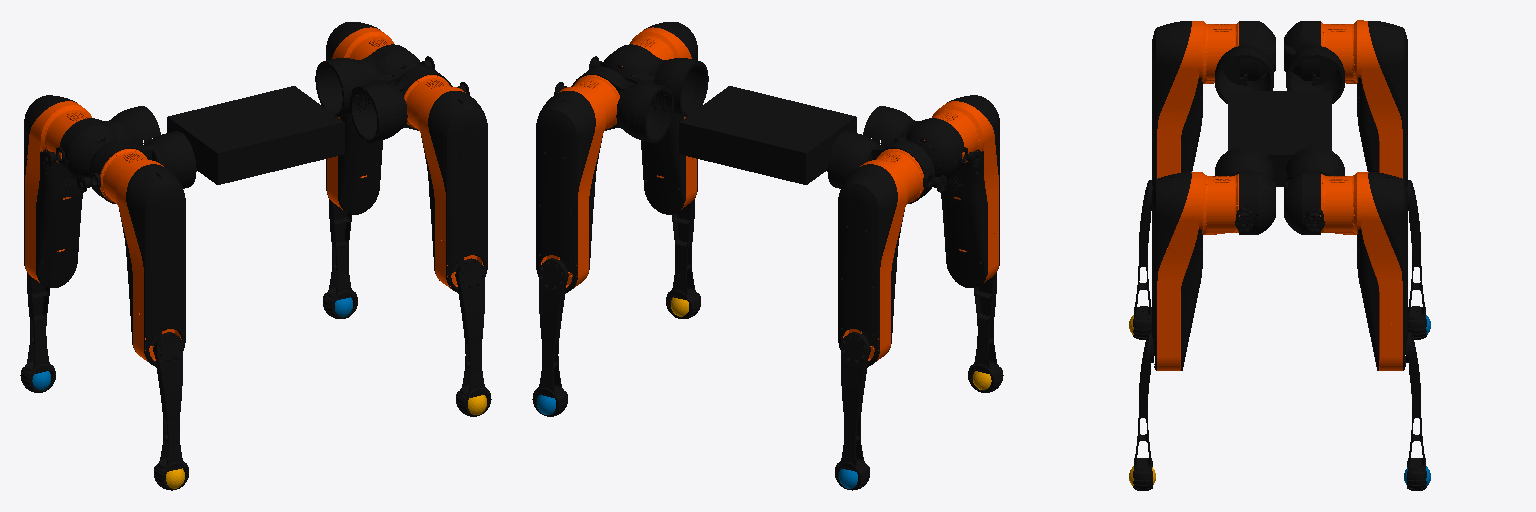
URDF robot description (kyon):
<?xml version="1.0" ?>
<!-- =================================================================================== -->
<!-- |    This document was autogenerated by xacro from kyon_urdf/urdf/kyon.urdf.xacro | -->
<!-- |    EDITING THIS FILE BY HAND IS NOT RECOMMENDED                                 | -->
<!-- =================================================================================== -->
<robot name="kyon">
  <!-- scaling factor for available peack torque link side, from 0 to 1 -->
  <material name="black">
    <color rgba="0.4 0.4 0.4 1"/>
  </material>
  <material name="dark_grey">
    <color rgba="0.1 0.1 0.1 1"/>
  </material>
  <material name="light_grey">
    <color rgba="0.2 0.2 0.2 1"/>
  </material>
  <material name="kyon_orange">
    <color rgba="0.925 0.325 0.0 1"/>
  </material>
  <!-- Compound properties (i.e. based on the props parsed from the yaml) -->
  <link name="base_link"/>
  <link name="pelvis">
    <inertial>
      <origin xyz="0.056500758 0.002091838 0.086799843"/>
      <mass value="19.962822"/>
      <inertia ixx="0.24817282999999998" ixy="-0.0041644587" ixz="-0.060913554999999994" iyy="1.2563811999999999" iyz="0.00024917702" izz="1.2495441"/>
    </inertial>
    <visual>
      <origin rpy="0.0 0.0 0.0" xyz="0.0 0 0.0"/>
      <geometry>
        <mesh filename="package://example-robot-data/robots/kyon_description/meshes/visual/mesh_pelvis.stl" scale="0.001 0.001 0.001"/>
      </geometry>
      <material name="dark_grey"/>
    </visual>
    <collision>
      <!-- This remains the sole mesh in primitive-collision mode. Its
		     100-triangle convex hull converts reliably, while an enclosing box
		     creates false pelvis/shoulder collisions in the nominal posture. -->
      <origin rpy="0 0 0" xyz="0 0 0"/>
      <geometry>
        <mesh filename="package://example-robot-data/robots/kyon_description/meshes/collision_simplified/mesh_pelvis.stl" scale="0.001 0.001 0.001"/>
      </geometry>
    </collision>
  </link>
  <link name="battery">
    <inertial>
      <mass value="9.8"/>
      <inertia ixx="0.04647935016666667" ixy="0.0" ixz="0.0" iyy="0.09353241683333333" iyz="0.0" izz="0.12974056666666667"/>
    </inertial>
    <visual>
      <geometry>
        <box size="0.329 0.225 0.0793"/>
      </geometry>
      <material name="dark_grey"/>
    </visual>
  </link>
  <joint name="battery_joint" type="fixed">
    <origin xyz="0.0 0.0 -0.02725"/>
    <parent link="pelvis"/>
    <child link="battery"/>
  </joint>
  <joint name="base_joint" type="fixed">
    <parent link="pelvis"/>
    <child link="base_link"/>
    <origin rpy="0 0 0" xyz="0 0 0"/>
  </joint>
  <link name="imu_link"/>
  <joint name="imu_joint" type="fixed">
    <origin rpy="3.14159265359 0 0" xyz="-0.256190 0 0.103"/>
    <parent link="pelvis"/>
    <child link="imu_link"/>
  </joint>
  <!-- CAMERA BASE FRAMES -->
  <link name="zed_front_up_mount_link"/>
  <joint name="zed_front_up_mount_joint" type="fixed">
    <parent link="pelvis"/>
    <child link="zed_front_up_mount_link"/>
    <origin rpy="0 -0.1745327 0" xyz="0.526174 0 0.0674608"/>
  </joint>
  <link name="zed_front_down_mount_link"/>
  <joint name="zed_front_down_mount_joint" type="fixed">
    <parent link="pelvis"/>
    <child link="zed_front_down_mount_link"/>
    <origin rpy="0 0.9250251 0" xyz="0.509601 0 0.00343992"/>
  </joint>
  <link name="left_camera_mount_link"/>
  <joint name="left_camera_mount_joint" type="fixed">
    <parent link="pelvis"/>
    <child link="left_camera_mount_link"/>
    <origin rpy="0 0.3490656 1.5707963" xyz="0 0.150100 0.109486"/>
  </joint>
  <link name="right_camera_mount_link"/>
  <joint name="right_camera_mount_joint" type="fixed">
    <parent link="pelvis"/>
    <child link="right_camera_mount_link"/>
    <origin rpy="0 0.3490656 -1.5707963" xyz="0 -0.150100 0.109486"/>
  </joint>
  <!-- Velodyne -->
  <link name="hesai_lidar"/>
  <joint name="hesai_lidar_joints" type="fixed">
    <origin rpy="0 0 0.5220063" xyz="0.43 0 0.118"/>
    <parent link="pelvis"/>
    <child link="hesai_lidar"/>
  </joint>
  <!-- /macro legs -->
  <!-- links -->
  <link name="hip_roll_1_link">
    <inertial>
      <origin xyz="-0.00067317742 0.0065349155 -0.11564663"/>
      <mass value="2.5772427"/>
      <inertia ixx="0.014198247999999998" ixy="5.199100799999999e-06" ixz="5.3090191e-05" iyy="0.014484612" iyz="0.001454582" izz="0.004551220599999999"/>
    </inertial>
    <visual>
      <origin rpy="0.0 0.0 0.0" xyz="0.0 0.0 0.0"/>
      <geometry>
        <!-- <cylinder radius="${cylinder_radius}" length="${cylinder_length}"/> -->
        <mesh filename="package://example-robot-data/robots/kyon_description/meshes/visual/mesh_hip-roll_reduced.stl" scale="0.001 -0.001 0.001"/>
      </geometry>
      <material name="dark_grey"/>
    </visual>
    <collision>
      <origin rpy="0 0 0" xyz="0 0 0"/>
      <geometry>
        <mesh filename="package://example-robot-data/robots/kyon_description/meshes/collision_simplified/mesh_hip-roll.stl" scale="0.001 -0.001 0.001"/>
      </geometry>
    </collision>
  </link>
  <link name="hip_pitch_1_link">
    <inertial>
      <origin xyz="6.9653887e-05 -0.077666126 0.14689295000000002"/>
      <mass value="6.4366103"/>
      <inertia ixx="0.12144025" ixy="-0.0006467757299999999" ixz="-5.7668584e-05" iyy="0.03368201999999999" iyz="0.027586780999999998" izz="0.10048465"/>
    </inertial>
    <visual>
      <origin rpy="0.0 0.0 0.0" xyz="0.0 0.0 0.0"/>
      <geometry>
        <mesh filename="package://example-robot-data/robots/kyon_description/meshes/visual/mesh_hip-pitch_reduced.stl" scale="0.001 0.001 0.001"/>
      </geometry>
      <material name="kyon_orange"/>
    </visual>
    <visual>
      <origin rpy="0.0 0.0 0.0" xyz="0.0 0.0 0.0"/>
      <geometry>
        <mesh filename="package://example-robot-data/robots/kyon_description/meshes/visual/mesh_hip-pitch_cover_reduced.stl" scale="0.001 0.001 0.001"/>
      </geometry>
      <material name="dark_grey"/>
    </visual>
    <collision>
      <origin rpy="0 0 0" xyz="0 0 0"/>
      <geometry>
        <mesh filename="package://example-robot-data/robots/kyon_description/meshes/collision_simplified/mesh_hip-pitch.stl" scale="0.001 0.001 0.001"/>
      </geometry>
      <material name="kyon_orange"/>
    </collision>
  </link>
  <!-- joints -->
  <joint name="hip_roll_1" type="revolute">
    <parent link="pelvis"/>
    <child link="hip_roll_1_link"/>
    <origin rpy="0.0 1.57079632679 0.0" xyz="0.391 0.0775 0.0"/>
    <axis xyz="0 0 -1"/>
    <limit effort="185" lower="-0.65" upper="0.65" velocity="7.6"/>
  </joint>
  <joint name="hip_pitch_1" type="revolute">
    <parent link="hip_roll_1_link"/>
    <child link="hip_pitch_1_link"/>
    <origin rpy="0.0 1.57079632679 1.57079632679" xyz="0.0 -0.04746 0.0"/>
    <axis xyz="0 0 -1"/>
    <limit effort="185" lower="-2.4056" upper="2.4056" velocity="7.6"/>
  </joint>
  <link name="knee_pitch_1_link">
    <inertial>
      <origin xyz="5.1193011000000004e-06 -0.10291594999999999 -0.0012895495"/>
      <mass value="0.70900216"/>
      <inertia ixx="0.012517512" ixy="5.4385779e-07" ixz="-1.4538899e-07" iyy="0.00080474409" iyz="0.001744629" izz="0.01230702"/>
    </inertial>
    <visual>
      <origin rpy="0.0 0.0 0.0" xyz="0.0 0.0 0.0"/>
      <geometry>
        <mesh filename="package://example-robot-data/robots/kyon_description/meshes/visual/mesh_foot-leg_reduced.stl" scale="-0.001 0.001 0.001"/>
      </geometry>
      <material name="dark_grey"/>
    </visual>
    <collision>
      <origin rpy="0 0 0" xyz="0 0 0"/>
      <geometry>
        <mesh filename="package://example-robot-data/robots/kyon_description/meshes/collision_simplified/mesh_foot-leg.stl" scale="-0.001 0.001 0.001"/>
      </geometry>
    </collision>
  </link>
  <joint name="knee_pitch_1" type="revolute">
    <parent link="hip_pitch_1_link"/>
    <child link="knee_pitch_1_link"/>
    <origin rpy="0.0 0.0 0.0" xyz="0.0 -0.34600000000000003 0.24606"/>
    <axis xyz="0 0 -1"/>
    <limit effort="185" lower="-3.2" upper="3.2" velocity="7.6"/>
  </joint>
  <link name="contact_1">
    <visual>
      <origin rpy="0 0 0" xyz="0 0 0"/>
      <geometry>
        <sphere radius="0.03"/>
      </geometry>
      <material name="white"/>
    </visual>
    <collision name="contact_1">
      <origin rpy="0 0 0" xyz="0 0 0"/>
      <geometry>
        <sphere radius="0.03"/>
      </geometry>
    </collision>
  </link>
  <joint name="contact_1_joint" type="fixed">
    <parent link="knee_pitch_1_link"/>
    <child link="contact_1"/>
    <origin rpy="-1.57 0 0.785" xyz="0.0 -0.312 0.024"/>
  </joint>
  <!-- <xacro:if value="${ADD_WHEELS}"> -->
  <!-- <xacro:wheel_leg leg_num="${leg_num}" parent="hip_pitch_${leg_num}_link" origin_x="${origin_x}" origin_y="${origin_y}" mirror="${mirror}"/> -->
  <!-- </xacro:if> -->
  <!-- links -->
  <link name="hip_roll_2_link">
    <inertial>
      <origin xyz="-0.00067317742 0.0065349155 -0.11564663"/>
      <mass value="2.5772427"/>
      <inertia ixx="0.014198247999999998" ixy="-5.199100799999999e-06" ixz="5.3090191e-05" iyy="0.014484612" iyz="-0.001454582" izz="0.004551220599999999"/>
    </inertial>
    <visual>
      <origin rpy="0.0 0.0 0.0" xyz="0.0 0.0 0.0"/>
      <geometry>
        <!-- <cylinder radius="${cylinder_radius}" length="${cylinder_length}"/> -->
        <mesh filename="package://example-robot-data/robots/kyon_description/meshes/visual/mesh_hip-roll_reduced.stl" scale="0.001 0.001 0.001"/>
      </geometry>
      <material name="dark_grey"/>
    </visual>
    <collision>
      <origin rpy="0 0 0" xyz="0 0 0"/>
      <geometry>
        <mesh filename="package://example-robot-data/robots/kyon_description/meshes/collision_simplified/mesh_hip-roll.stl" scale="0.001 0.001 0.001"/>
      </geometry>
    </collision>
  </link>
  <link name="hip_pitch_2_link">
    <inertial>
      <origin xyz="6.9653887e-05 -0.077666126 0.14689295000000002"/>
      <mass value="6.4366103"/>
      <inertia ixx="0.12144025" ixy="-0.0006467757299999999" ixz="-5.7668584e-05" iyy="0.03368201999999999" iyz="0.027586780999999998" izz="0.10048465"/>
    </inertial>
    <visual>
      <origin rpy="0.0 0.0 0.0" xyz="0.0 0.0 0.0"/>
      <geometry>
        <mesh filename="package://example-robot-data/robots/kyon_description/meshes/visual/mesh_hip-pitch_reduced.stl" scale="0.001 0.001 0.001"/>
      </geometry>
      <material name="kyon_orange"/>
    </visual>
    <visual>
      <origin rpy="0.0 0.0 0.0" xyz="0.0 0.0 0.0"/>
      <geometry>
        <mesh filename="package://example-robot-data/robots/kyon_description/meshes/visual/mesh_hip-pitch_cover_reduced.stl" scale="0.001 0.001 0.001"/>
      </geometry>
      <material name="dark_grey"/>
    </visual>
    <collision>
      <origin rpy="0 0 0" xyz="0 0 0"/>
      <geometry>
        <mesh filename="package://example-robot-data/robots/kyon_description/meshes/collision_simplified/mesh_hip-pitch.stl" scale="0.001 0.001 0.001"/>
      </geometry>
      <material name="kyon_orange"/>
    </collision>
  </link>
  <!-- joints -->
  <joint name="hip_roll_2" type="revolute">
    <parent link="pelvis"/>
    <child link="hip_roll_2_link"/>
    <origin rpy="0.0 1.57079632679 0.0" xyz="0.391 -0.0775 0.0"/>
    <axis xyz="0 0 -1"/>
    <limit effort="185" lower="-0.65" upper="0.65" velocity="7.6"/>
  </joint>
  <joint name="hip_pitch_2" type="revolute">
    <parent link="hip_roll_2_link"/>
    <child link="hip_pitch_2_link"/>
    <origin rpy="0.0 -1.57079632679 1.57079632679" xyz="0.0 0.04746 0.0"/>
    <axis xyz="0 0 -1"/>
    <limit effort="185" lower="-2.3266" upper="2.3266" velocity="7.6"/>
  </joint>
  <link name="knee_pitch_2_link">
    <inertial>
      <origin xyz="5.1193011000000004e-06 -0.10291594999999999 -0.0012895495"/>
      <mass value="0.70900216"/>
      <inertia ixx="0.012517512" ixy="-5.4385779e-07" ixz="1.4538899e-07" iyy="0.00080474409" iyz="0.001744629" izz="0.01230702"/>
    </inertial>
    <visual>
      <origin rpy="0.0 0.0 0.0" xyz="0.0 0.0 0.0"/>
      <geometry>
        <mesh filename="package://example-robot-data/robots/kyon_description/meshes/visual/mesh_foot-leg_reduced.stl" scale="0.001 0.001 0.001"/>
      </geometry>
      <material name="dark_grey"/>
    </visual>
    <collision>
      <origin rpy="0 0 0" xyz="0 0 0"/>
      <geometry>
        <mesh filename="package://example-robot-data/robots/kyon_description/meshes/collision_simplified/mesh_foot-leg.stl" scale="0.001 0.001 0.001"/>
      </geometry>
    </collision>
  </link>
  <joint name="knee_pitch_2" type="revolute">
    <parent link="hip_pitch_2_link"/>
    <child link="knee_pitch_2_link"/>
    <origin rpy="0.0 0.0 0.0" xyz="0.0 -0.34600000000000003 0.24606"/>
    <axis xyz="0 0 -1"/>
    <limit effort="185" lower="-3.2" upper="3.2" velocity="7.6"/>
  </joint>
  <link name="contact_2">
    <visual>
      <origin rpy="0 0 0" xyz="0 0 0"/>
      <geometry>
        <sphere radius="0.03"/>
      </geometry>
      <material name="white"/>
    </visual>
    <collision name="contact_2">
      <origin rpy="0 0 0" xyz="0 0 0"/>
      <geometry>
        <sphere radius="0.03"/>
      </geometry>
    </collision>
  </link>
  <joint name="contact_2_joint" type="fixed">
    <parent link="knee_pitch_2_link"/>
    <child link="contact_2"/>
    <origin rpy="1.57 0 2.356" xyz="-0.0 -0.312 0.024"/>
  </joint>
  <!-- <xacro:if value="${ADD_WHEELS}"> -->
  <!-- <xacro:wheel_leg leg_num="${leg_num}" parent="hip_pitch_${leg_num}_link" origin_x="${origin_x}" origin_y="${origin_y}" mirror="${mirror}"/> -->
  <!-- </xacro:if> -->
  <!-- links -->
  <link name="hip_roll_3_link">
    <inertial>
      <origin xyz="-0.00067317742 0.0065349155 -0.11564663"/>
      <mass value="2.5772427"/>
      <inertia ixx="0.014198247999999998" ixy="5.199100799999999e-06" ixz="5.3090191e-05" iyy="0.014484612" iyz="0.001454582" izz="0.004551220599999999"/>
    </inertial>
    <visual>
      <origin rpy="0.0 0.0 0.0" xyz="0.0 0.0 0.0"/>
      <geometry>
        <!-- <cylinder radius="${cylinder_radius}" length="${cylinder_length}"/> -->
        <mesh filename="package://example-robot-data/robots/kyon_description/meshes/visual/mesh_hip-roll_reduced.stl" scale="0.001 -0.001 0.001"/>
      </geometry>
      <material name="dark_grey"/>
    </visual>
    <collision>
      <origin rpy="0 0 0" xyz="0 0 0"/>
      <geometry>
        <mesh filename="package://example-robot-data/robots/kyon_description/meshes/collision_simplified/mesh_hip-roll.stl" scale="0.001 -0.001 0.001"/>
      </geometry>
    </collision>
  </link>
  <link name="hip_pitch_3_link">
    <inertial>
      <origin xyz="6.9653887e-05 -0.077666126 0.14689295000000002"/>
      <mass value="6.4366103"/>
      <inertia ixx="0.12144025" ixy="-0.0006467757299999999" ixz="-5.7668584e-05" iyy="0.03368201999999999" iyz="0.027586780999999998" izz="0.10048465"/>
    </inertial>
    <visual>
      <origin rpy="0.0 0.0 0.0" xyz="0.0 0.0 0.0"/>
      <geometry>
        <mesh filename="package://example-robot-data/robots/kyon_description/meshes/visual/mesh_hip-pitch_reduced.stl" scale="0.001 0.001 0.001"/>
      </geometry>
      <material name="kyon_orange"/>
    </visual>
    <visual>
      <origin rpy="0.0 0.0 0.0" xyz="0.0 0.0 0.0"/>
      <geometry>
        <mesh filename="package://example-robot-data/robots/kyon_description/meshes/visual/mesh_hip-pitch_cover_reduced.stl" scale="0.001 0.001 0.001"/>
      </geometry>
      <material name="dark_grey"/>
    </visual>
    <collision>
      <origin rpy="0 0 0" xyz="0 0 0"/>
      <geometry>
        <mesh filename="package://example-robot-data/robots/kyon_description/meshes/collision_simplified/mesh_hip-pitch.stl" scale="0.001 0.001 0.001"/>
      </geometry>
      <material name="kyon_orange"/>
    </collision>
  </link>
  <!-- joints -->
  <joint name="hip_roll_3" type="revolute">
    <parent link="pelvis"/>
    <child link="hip_roll_3_link"/>
    <origin rpy="0.0 -1.57079632679 0.0" xyz="-0.391 0.0775 0.0"/>
    <axis xyz="0 0 -1"/>
    <limit effort="185" lower="-0.65" upper="0.65" velocity="7.6"/>
  </joint>
  <joint name="hip_pitch_3" type="revolute">
    <parent link="hip_roll_3_link"/>
    <child link="hip_pitch_3_link"/>
    <origin rpy="0.0 -1.57079632679 -1.57079632679" xyz="0.0 -0.04746 0.0"/>
    <axis xyz="0 0 -1"/>
    <limit effort="185" lower="-2.4696" upper="2.4696" velocity="7.6"/>
  </joint>
  <link name="knee_pitch_3_link">
    <inertial>
      <origin xyz="5.1193011000000004e-06 -0.10291594999999999 -0.0012895495"/>
      <mass value="0.70900216"/>
      <inertia ixx="0.012517512" ixy="5.4385779e-07" ixz="-1.4538899e-07" iyy="0.00080474409" iyz="0.001744629" izz="0.01230702"/>
    </inertial>
    <visual>
      <origin rpy="0.0 0.0 0.0" xyz="0.0 0.0 0.0"/>
      <geometry>
        <mesh filename="package://example-robot-data/robots/kyon_description/meshes/visual/mesh_foot-leg_reduced.stl" scale="-0.001 0.001 0.001"/>
      </geometry>
      <material name="dark_grey"/>
    </visual>
    <collision>
      <origin rpy="0 0 0" xyz="0 0 0"/>
      <geometry>
        <mesh filename="package://example-robot-data/robots/kyon_description/meshes/collision_simplified/mesh_foot-leg.stl" scale="-0.001 0.001 0.001"/>
      </geometry>
    </collision>
  </link>
  <joint name="knee_pitch_3" type="revolute">
    <parent link="hip_pitch_3_link"/>
    <child link="knee_pitch_3_link"/>
    <origin rpy="0.0 0.0 0.0" xyz="0.0 -0.34600000000000003 0.24606"/>
    <axis xyz="0 0 -1"/>
    <limit effort="185" lower="-3.2" upper="3.2" velocity="7.6"/>
  </joint>
  <link name="contact_3">
    <visual>
      <origin rpy="0 0 0" xyz="0 0 0"/>
      <geometry>
        <sphere radius="0.03"/>
      </geometry>
      <material name="white"/>
    </visual>
    <collision name="contact_3">
      <origin rpy="0 0 0" xyz="0 0 0"/>
      <geometry>
        <sphere radius="0.03"/>
      </geometry>
    </collision>
  </link>
  <joint name="contact_3_joint" type="fixed">
    <parent link="knee_pitch_3_link"/>
    <child link="contact_3"/>
    <origin rpy="-1.57 0 0.785" xyz="0.0 -0.312 0.024"/>
  </joint>
  <!-- <xacro:if value="${ADD_WHEELS}"> -->
  <!-- <xacro:wheel_leg leg_num="${leg_num}" parent="hip_pitch_${leg_num}_link" origin_x="${origin_x}" origin_y="${origin_y}" mirror="${mirror}"/> -->
  <!-- </xacro:if> -->
  <!-- links -->
  <link name="hip_roll_4_link">
    <inertial>
      <origin xyz="-0.00067317742 0.0065349155 -0.11564663"/>
      <mass value="2.5772427"/>
      <inertia ixx="0.014198247999999998" ixy="-5.199100799999999e-06" ixz="5.3090191e-05" iyy="0.014484612" iyz="-0.001454582" izz="0.004551220599999999"/>
    </inertial>
    <visual>
      <origin rpy="0.0 0.0 0.0" xyz="0.0 0.0 0.0"/>
      <geometry>
        <!-- <cylinder radius="${cylinder_radius}" length="${cylinder_length}"/> -->
        <mesh filename="package://example-robot-data/robots/kyon_description/meshes/visual/mesh_hip-roll_reduced.stl" scale="0.001 0.001 0.001"/>
      </geometry>
      <material name="dark_grey"/>
    </visual>
    <collision>
      <origin rpy="0 0 0" xyz="0 0 0"/>
      <geometry>
        <mesh filename="package://example-robot-data/robots/kyon_description/meshes/collision_simplified/mesh_hip-roll.stl" scale="0.001 0.001 0.001"/>
      </geometry>
    </collision>
  </link>
  <link name="hip_pitch_4_link">
    <inertial>
      <origin xyz="6.9653887e-05 -0.077666126 0.14689295000000002"/>
      <mass value="6.4366103"/>
      <inertia ixx="0.12144025" ixy="-0.0006467757299999999" ixz="-5.7668584e-05" iyy="0.03368201999999999" iyz="0.027586780999999998" izz="0.10048465"/>
    </inertial>
    <visual>
      <origin rpy="0.0 0.0 0.0" xyz="0.0 0.0 0.0"/>
      <geometry>
        <mesh filename="package://example-robot-data/robots/kyon_description/meshes/visual/mesh_hip-pitch_reduced.stl" scale="0.001 0.001 0.001"/>
      </geometry>
      <material name="kyon_orange"/>
    </visual>
    <visual>
      <origin rpy="0.0 0.0 0.0" xyz="0.0 0.0 0.0"/>
      <geometry>
        <mesh filename="package://example-robot-data/robots/kyon_description/meshes/visual/mesh_hip-pitch_cover_reduced.stl" scale="0.001 0.001 0.001"/>
      </geometry>
      <material name="dark_grey"/>
    </visual>
    <collision>
      <origin rpy="0 0 0" xyz="0 0 0"/>
      <geometry>
        <mesh filename="package://example-robot-data/robots/kyon_description/meshes/collision_simplified/mesh_hip-pitch.stl" scale="0.001 0.001 0.001"/>
      </geometry>
      <material name="kyon_orange"/>
    </collision>
  </link>
  <!-- joints -->
  <joint name="hip_roll_4" type="revolute">
    <parent link="pelvis"/>
    <child link="hip_roll_4_link"/>
    <origin rpy="0.0 -1.57079632679 0.0" xyz="-0.391 -0.0775 0.0"/>
    <axis xyz="0 0 -1"/>
    <limit effort="185" lower="-0.65" upper="0.65" velocity="7.6"/>
  </joint>
  <joint name="hip_pitch_4" type="revolute">
    <parent link="hip_roll_4_link"/>
    <child link="hip_pitch_4_link"/>
    <origin rpy="0.0 1.57079632679 -1.57079632679" xyz="0.0 0.04746 0.0"/>
    <axis xyz="0 0 -1"/>
    <limit effort="185" lower="-2.3426" upper="2.3426" velocity="7.6"/>
  </joint>
  <link name="knee_pitch_4_link">
    <inertial>
      <origin xyz="5.1193011000000004e-06 -0.10291594999999999 -0.0012895495"/>
      <mass value="0.70900216"/>
      <inertia ixx="0.012517512" ixy="-5.4385779e-07" ixz="1.4538899e-07" iyy="0.00080474409" iyz="0.001744629" izz="0.01230702"/>
    </inertial>
    <visual>
      <origin rpy="0.0 0.0 0.0" xyz="0.0 0.0 0.0"/>
      <geometry>
        <mesh filename="package://example-robot-data/robots/kyon_description/meshes/visual/mesh_foot-leg_reduced.stl" scale="0.001 0.001 0.001"/>
      </geometry>
      <material name="dark_grey"/>
    </visual>
    <collision>
      <origin rpy="0 0 0" xyz="0 0 0"/>
      <geometry>
        <mesh filename="package://example-robot-data/robots/kyon_description/meshes/collision_simplified/mesh_foot-leg.stl" scale="0.001 0.001 0.001"/>
      </geometry>
    </collision>
  </link>
  <joint name="knee_pitch_4" type="revolute">
    <parent link="hip_pitch_4_link"/>
    <child link="knee_pitch_4_link"/>
    <origin rpy="0.0 0.0 0.0" xyz="0.0 -0.34600000000000003 0.24606"/>
    <axis xyz="0 0 -1"/>
    <limit effort="185" lower="-3.2" upper="3.2" velocity="7.6"/>
  </joint>
  <link name="contact_4">
    <visual>
      <origin rpy="0 0 0" xyz="0 0 0"/>
      <geometry>
        <sphere radius="0.03"/>
      </geometry>
      <material name="white"/>
    </visual>
    <collision name="contact_4">
      <origin rpy="0 0 0" xyz="0 0 0"/>
      <geometry>
        <sphere radius="0.03"/>
      </geometry>
    </collision>
  </link>
  <joint name="contact_4_joint" type="fixed">
    <parent link="knee_pitch_4_link"/>
    <child link="contact_4"/>
    <origin rpy="1.57 0 2.356" xyz="-0.0 -0.312 0.024"/>
  </joint>
  <!-- <xacro:if value="${ADD_WHEELS}"> -->
  <!-- <xacro:wheel_leg leg_num="${leg_num}" parent="hip_pitch_${leg_num}_link" origin_x="${origin_x}" origin_y="${origin_y}" mirror="${mirror}"/> -->
  <!-- </xacro:if> -->
  <!-- ************ Control frames ************ -->
  <!--xacro:include filename="$(find pholus_urdf)/urdf/control_frames.urdf.xacro"/-->
</robot>

--- Render facts (derived) ---
Views: 3 orthographic renders of the robot side by side, from view 1: azimuth 30°, elevation 25°; view 2: azimuth 150°, elevation 25°; view 3: azimuth 270°, elevation 25°.
Model kyon with 25 links and 24 joints (12 revolute, 12 fixed), rooted at pelvis, posed all joints at 0.
Visible links, largest first — view 1: hip_pitch_4_link, hip_pitch_2_link, battery, hip_pitch_3_link, hip_pitch_1_link, hip_roll_1_link, hip_roll_3_link, hip_roll_2_link, knee_pitch_4_link, knee_pitch_2_link, hip_roll_4_link, knee_pitch_1_link (+1 smaller); view 2: hip_pitch_3_link, hip_pitch_1_link, battery, hip_pitch_4_link, hip_pitch_2_link, hip_roll_2_link, hip_roll_4_link, hip_roll_1_link, knee_pitch_3_link, knee_pitch_1_link, hip_roll_3_link, knee_pitch_2_link (+1 smaller); view 3: hip_pitch_1_link, hip_pitch_2_link, hip_pitch_3_link, hip_pitch_4_link, battery, hip_roll_1_link, hip_roll_2_link, hip_roll_3_link, hip_roll_4_link, knee_pitch_1_link, knee_pitch_2_link, knee_pitch_3_link (+1 smaller).
Boxes of the visible links, left/top/right/bottom form: hip_pitch_4_link: left=100, top=149, right=185, bottom=366; hip_pitch_2_link: left=404, top=75, right=487, bottom=292; battery: left=167, top=86, right=344, bottom=184; hip_pitch_3_link: left=24, top=95, right=99, bottom=287; hip_pitch_1_link: left=326, top=22, right=401, bottom=214; hip_roll_1_link: left=315, top=44, right=434, bottom=116; hip_roll_3_link: left=42, top=106, right=160, bottom=178; hip_roll_2_link: left=350, top=67, right=469, bottom=142; knee_pitch_4_link: left=153, top=332, right=188, bottom=490; knee_pitch_2_link: left=455, top=258, right=491, bottom=416; hip_roll_4_link: left=77, top=131, right=196, bottom=203; knee_pitch_1_link: left=323, top=199, right=357, bottom=318; hip_pitch_3_link: left=838, top=149, right=923, bottom=366; hip_pitch_1_link: left=536, top=75, right=619, bottom=292; battery: left=679, top=86, right=856, bottom=184; hip_pitch_4_link: left=924, top=95, right=999, bottom=287; hip_pitch_2_link: left=622, top=22, right=697, bottom=214; hip_roll_2_link: left=589, top=44, right=708, bottom=116; hip_roll_4_link: left=863, top=106, right=981, bottom=178; hip_roll_1_link: left=554, top=67, right=673, bottom=142; knee_pitch_3_link: left=835, top=332, right=870, bottom=490; knee_pitch_1_link: left=532, top=258, right=568, bottom=416; hip_roll_3_link: left=827, top=131, right=946, bottom=203; knee_pitch_2_link: left=666, top=199, right=700, bottom=318; hip_pitch_1_link: left=1320, top=172, right=1407, bottom=370; hip_pitch_2_link: left=1152, top=172, right=1239, bottom=370; hip_pitch_3_link: left=1321, top=20, right=1407, bottom=186; hip_pitch_4_link: left=1152, top=21, right=1238, bottom=186; battery: left=1228, top=91, right=1331, bottom=186; hip_roll_1_link: left=1284, top=147, right=1344, bottom=234; hip_roll_2_link: left=1215, top=147, right=1275, bottom=234; hip_roll_3_link: left=1284, top=21, right=1344, bottom=103; hip_roll_4_link: left=1215, top=21, right=1275, bottom=103; knee_pitch_1_link: left=1406, top=332, right=1426, bottom=490; knee_pitch_2_link: left=1133, top=332, right=1153, bottom=490; knee_pitch_3_link: left=1407, top=180, right=1426, bottom=339.
Size in the robot's own frame: 0.9934 by 0.6602 by 0.7587 metres.
16 mesh visuals loaded from 5 distinct referenced files (4 binary STL); not drawn: 1 (reference not matched to a file when rendering).
